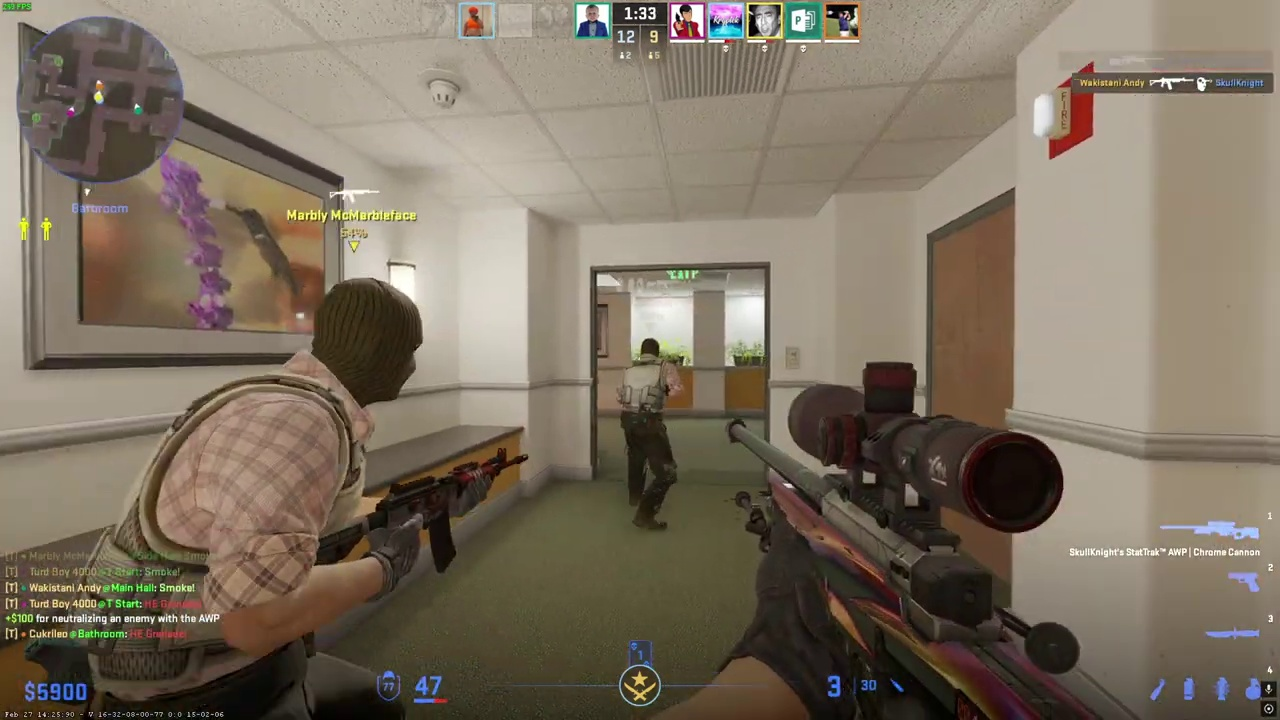Terrorist: (71, 277, 431, 719), (616, 338, 684, 531)
